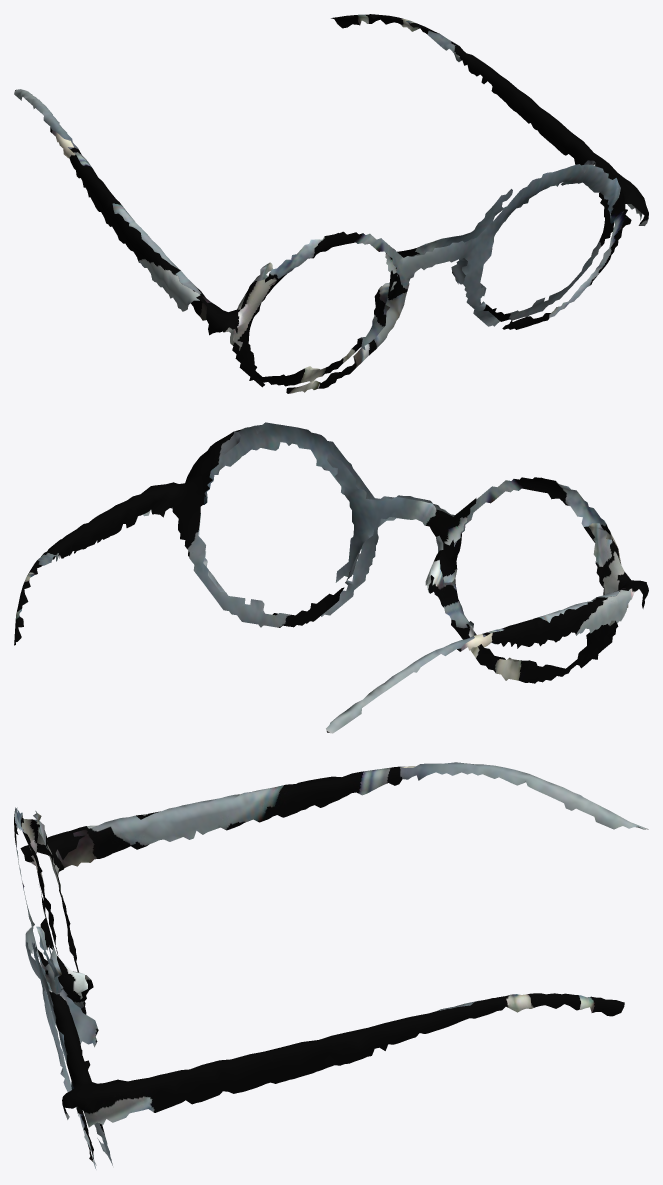
Rendered from scan_align.obj.
3 renders of one model, top to bottom at view 1: azimuth 30°, elevation 25°; view 2: azimuth 150°, elevation 25°; view 3: azimuth 270°, elevation 25°, orthographic. The views are drawn at different scales.
Bounding box in the file's own units: 0.1317 × 0.0486 × 0.1332.
